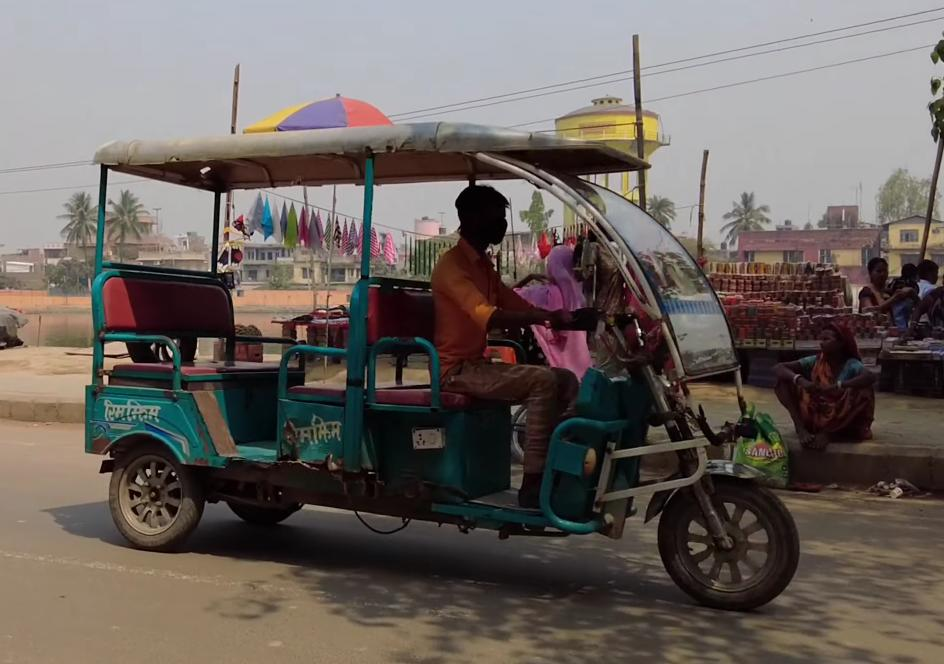e-rickshaw: (92, 124, 804, 618)
